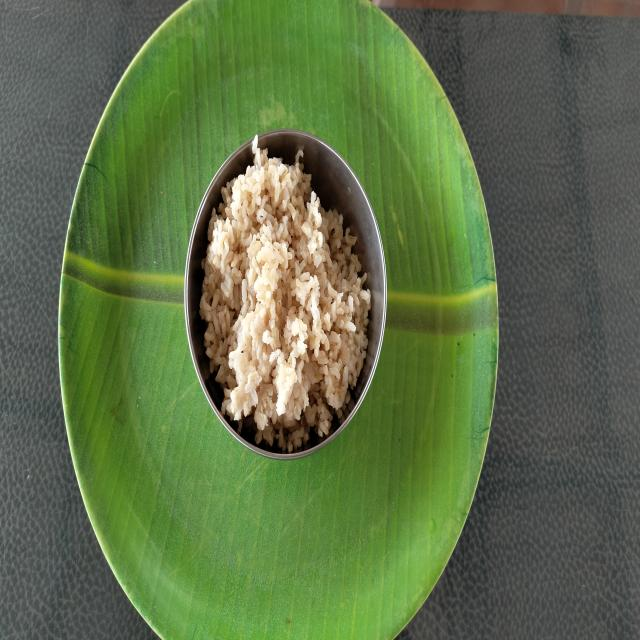brown-rice: (200, 146, 370, 452)
